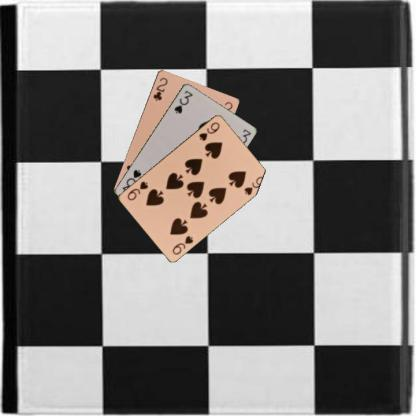2c: (150, 75, 169, 102)
3s: (172, 88, 194, 114)
9s: (196, 119, 221, 142), (170, 233, 195, 256)
